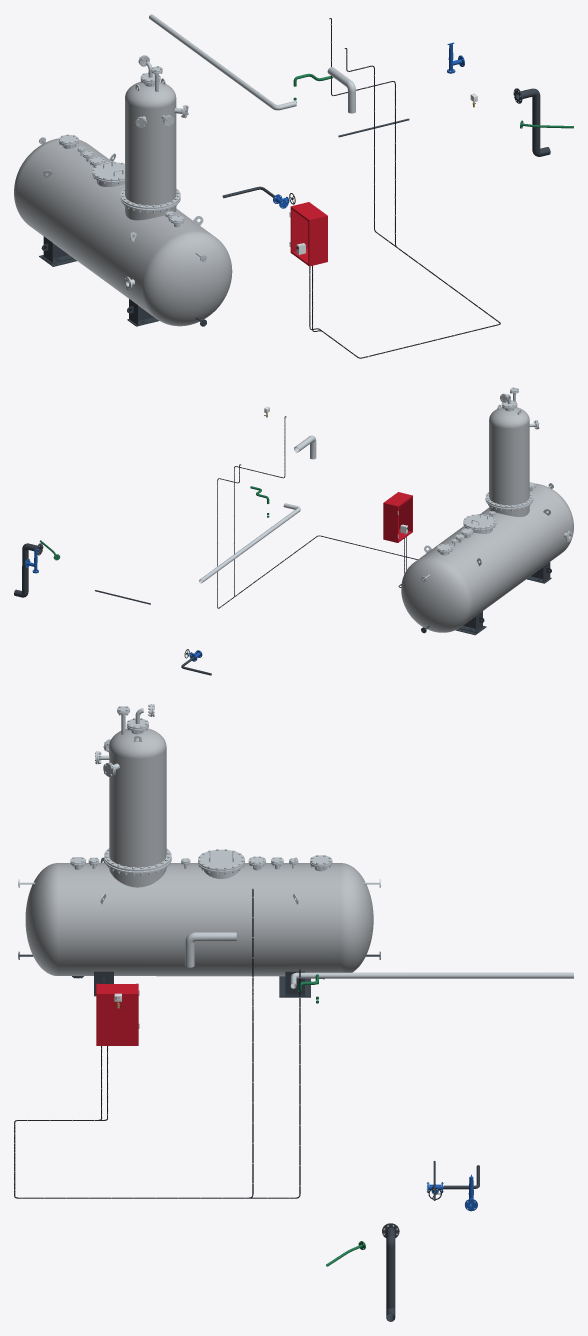
3 renders of one model, top to bottom at view 1: azimuth 30°, elevation 25°; view 2: azimuth 150°, elevation 25°; view 3: azimuth 270°, elevation 25°, orthographic. The views are drawn at different scales.
Parts seen in each view (by area): view 1: deaerator CAD solid 56, deaerator CAD solid 257, control_cabinet / control_cabinet_0.npz, safety_vent_2 / steel, gpz_drive_cable / black, bdv_water_drain / dark, mod_direct_drive_cable / black, deaerator CAD solid 408, steam_rise / steel; view 2: deaerator CAD solid 56, deaerator CAD solid 257, control_cabinet / control_cabinet_0.npz, safety_vent_2 / steel, gpz_drive_cable / black, bdv_water_drain / dark, mod_direct_drive_cable / black, deaerator CAD solid 408; view 3: deaerator CAD solid 56, deaerator CAD solid 257, control_cabinet / control_cabinet_0.npz, safety_vent_2 / steel, mod_direct_drive_cable / black, gpz_drive_cable / black, bdv_water_drain / dark, deaerator CAD solid 408.
Boxes of the visible parts, x1,y1,x2,y2 form: deaerator CAD solid 56: (14,138,232,326); deaerator CAD solid 257: (125,81,176,205); control_cabinet / control_cabinet_0.npz: (289,202,327,266); safety_vent_2 / steel: (149,14,296,110); gpz_drive_cable / black: (312,18,500,358); bdv_water_drain / dark: (513,88,550,156); mod_direct_drive_cable / black: (309,48,500,358); deaerator CAD solid 408: (92,162,124,180); steam_rise / steel: (327,67,355,113); deaerator CAD solid 56: (401,483,573,632); deaerator CAD solid 257: (489,407,529,505); control_cabinet / control_cabinet_0.npz: (383,492,412,542); safety_vent_2 / steel: (199,503,300,583); gpz_drive_cable / black: (234,416,417,596); bdv_water_drain / dark: (14,543,43,597); mod_direct_drive_cable / black: (217,464,417,608); deaerator CAD solid 408: (463,514,496,529); deaerator CAD solid 56: (25,863,373,976); deaerator CAD solid 257: (109,728,166,867); control_cabinet / control_cabinet_0.npz: (96,983,139,1045); safety_vent_2 / steel: (290,972,573,988); mod_direct_drive_cable / black: (14,969,300,1198); gpz_drive_cable / black: (14,889,253,1198); bdv_water_drain / dark: (382,1223,399,1321); deaerator CAD solid 408: (198,849,244,870).
Size of the model in its own units: 9.11 by 4.78 by 7.03.
